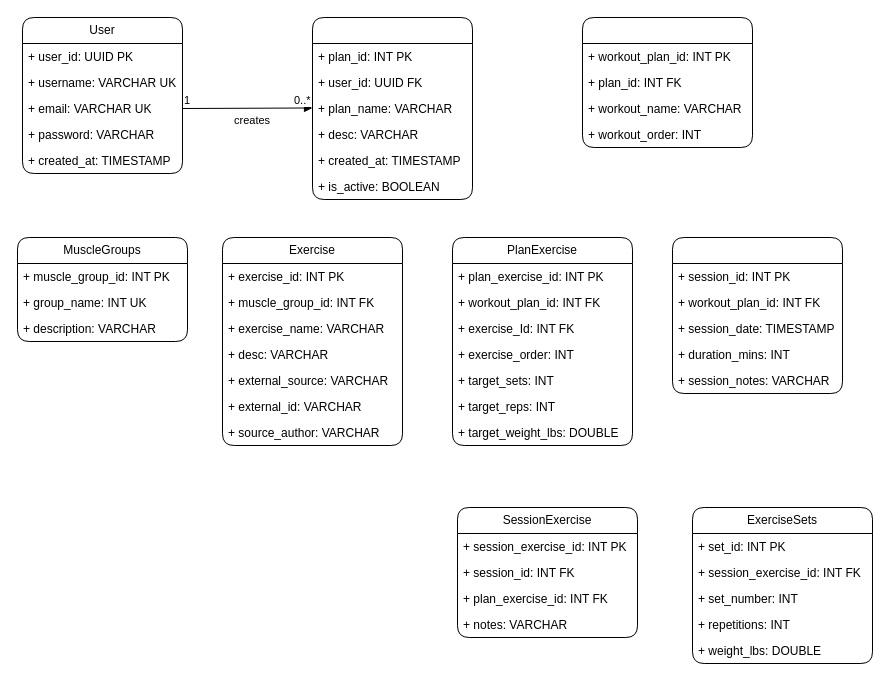
Some shapes in this 890 by 684 pixel diagram are drawn without their labels. Here are the shapes that lost their labels. From the top down, the box of each, then its label:
(582, 16, 752, 148): PlanWorkouts
(312, 16, 472, 200): WorkoutPlans
(672, 236, 842, 394): WorkoutSession
